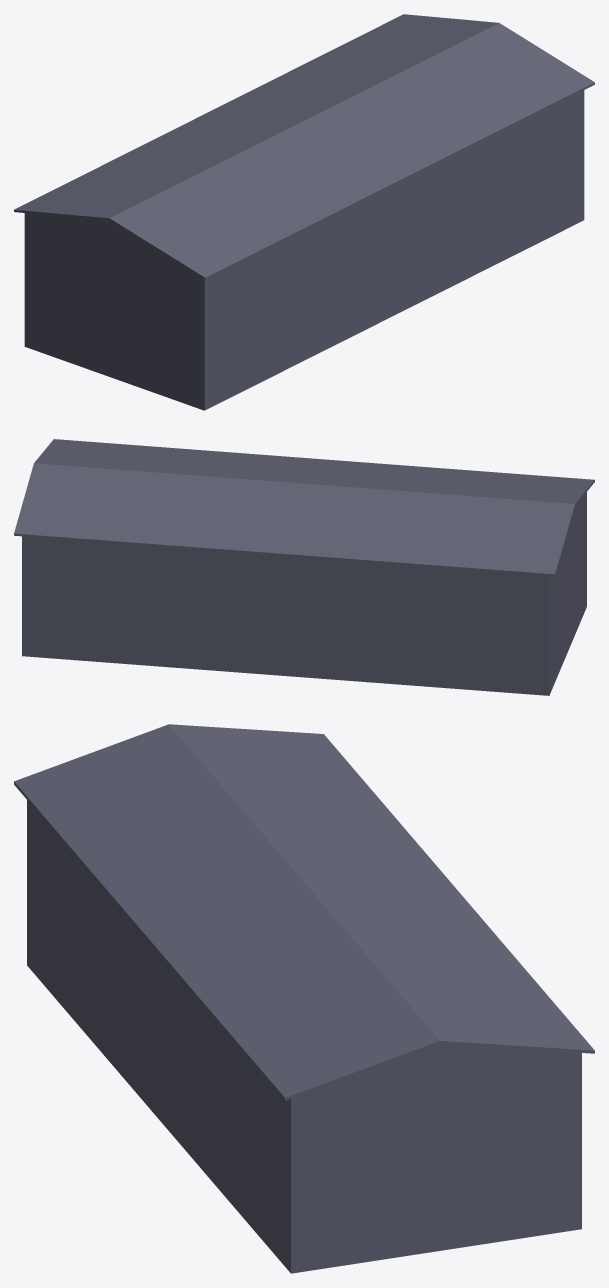
The picture shows the model from 3 angles, top to bottom: view 1: azimuth 30°, elevation 25°; view 2: azimuth 150°, elevation 25°; view 3: azimuth 270°, elevation 25°; orthographic projection. The views are drawn at different scales.
Visible parts, largest first — view 1: Q棟; view 2: Q棟; view 3: Q棟.
Boxes of the visible parts, x1,y1,x2,y2 form: Q棟: (14,14,594,410); Q棟: (14,439,594,695); Q棟: (14,724,594,1273).
Bounding box in the file's own units: 25.32 × 6.96 × 17.08.
